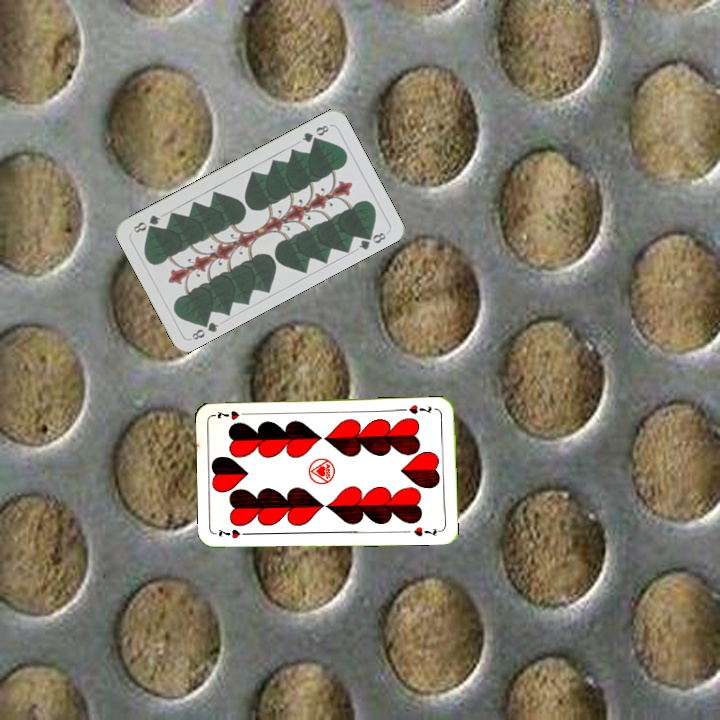G8: (188, 315, 221, 343), (298, 121, 332, 145)
H7: (215, 525, 253, 541), (399, 401, 434, 416)
